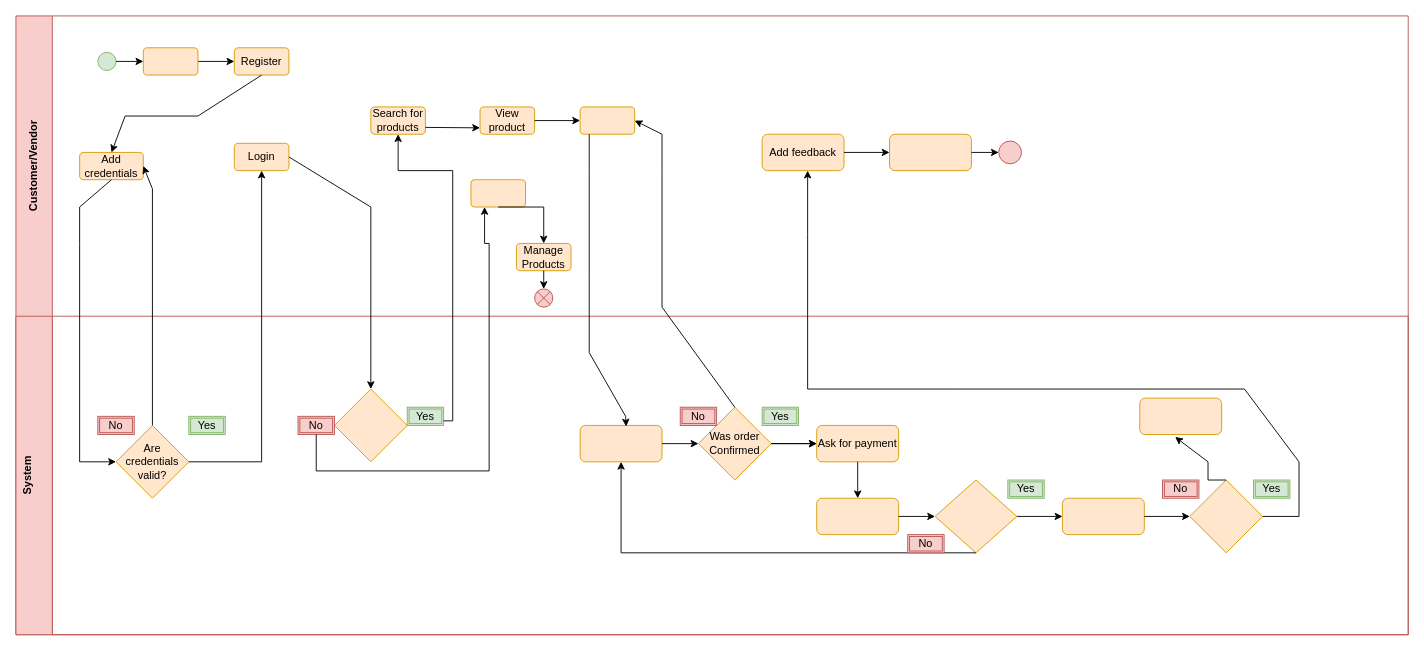
Image size: 1424x651. Some labels were removed from this diagram. The centre of each missing label's shape, as x and y in pixels:
Add feedback?: (x=1226, y=516)
Add to cart: (x=607, y=120)
Are you customer?: (x=370, y=425)
Back to home page: (x=1180, y=416)
Confrim Order: (x=620, y=443)
Create own store: (x=498, y=193)
Enter the system: (x=170, y=61)
Is payment valid?: (x=975, y=516)
Payment process: (x=857, y=516)
Post feedback: (x=930, y=152)
Print the receipt: (x=1103, y=516)
